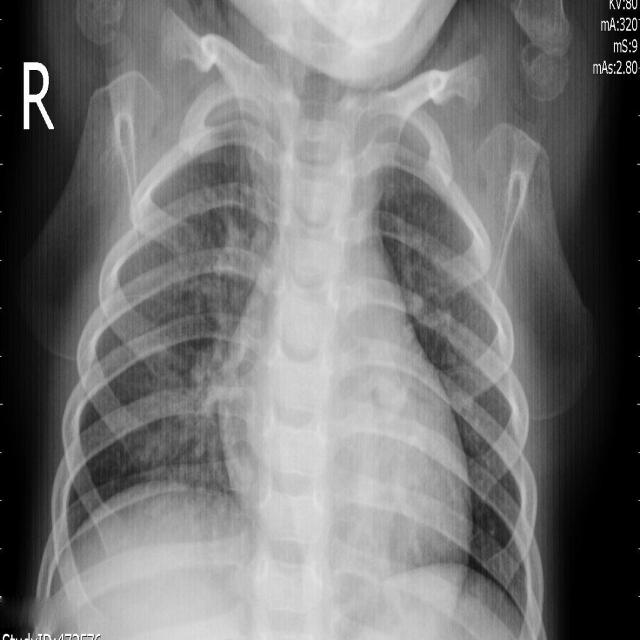low-pneumonia: (145, 329, 226, 503), (190, 175, 269, 323), (406, 226, 474, 358)
